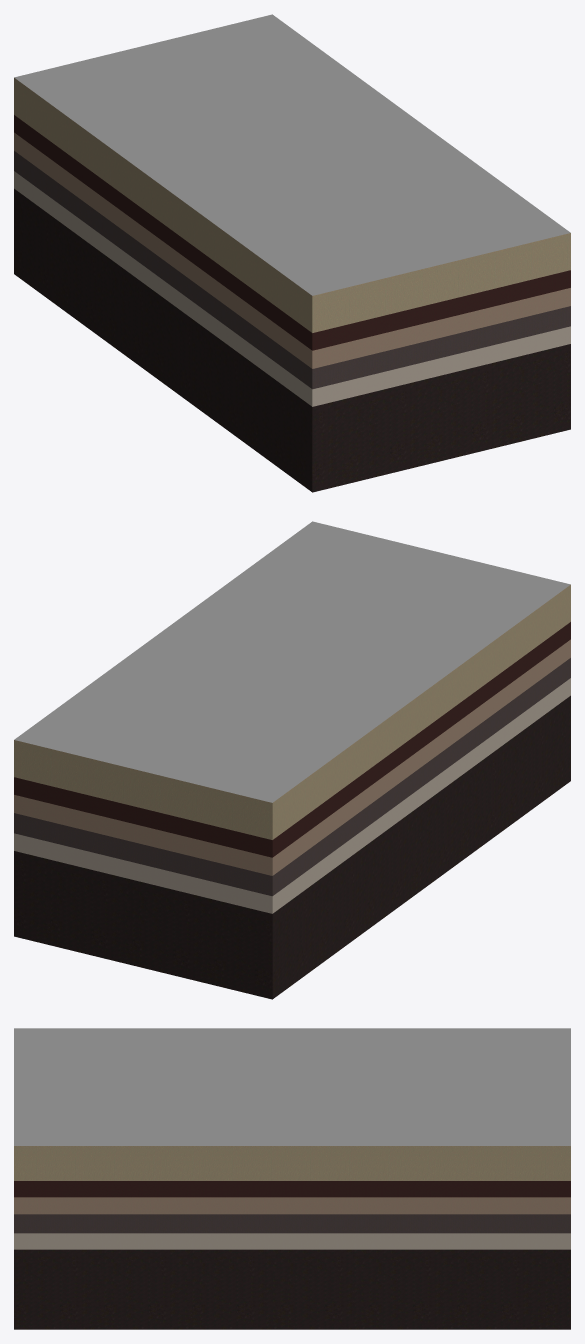
The model's file is ceshi11.gltf.
3 views of the same model, one above another, from view 1: azimuth 30°, elevation 25°; view 2: azimuth 150°, elevation 25°; view 3: azimuth 270°, elevation 25° (orthographic). The views are drawn at different scales.
Visible parts, largest first — view 1: 长轴褶曲构造地貌001; view 2: 长轴褶曲构造地貌001; view 3: 长轴褶曲构造地貌001.
Boxes of the visible parts, <box> form: 长轴褶曲构造地貌001: <box>14,14,570,492</box>; 长轴褶曲构造地貌001: <box>14,521,570,999</box>; 长轴褶曲构造地貌001: <box>14,1028,570,1329</box>.
Size of the model in its own units: 200 by 146 by 400.
Materials: 7 (6 with a texture image).
